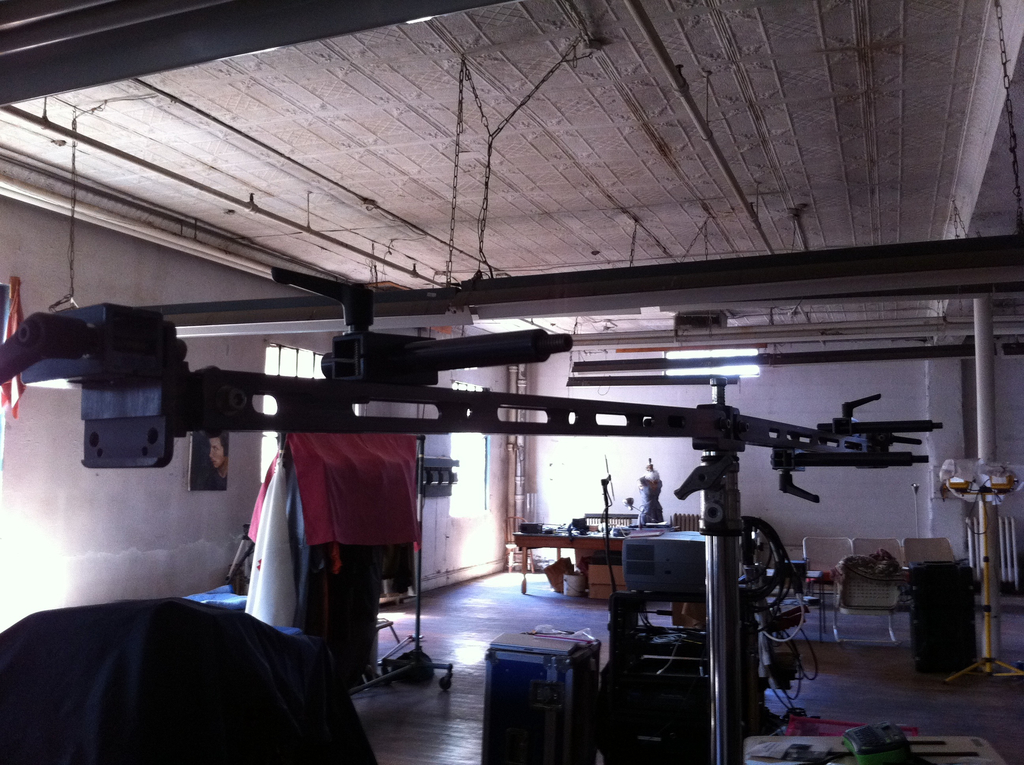Person: (195, 431, 227, 489)
